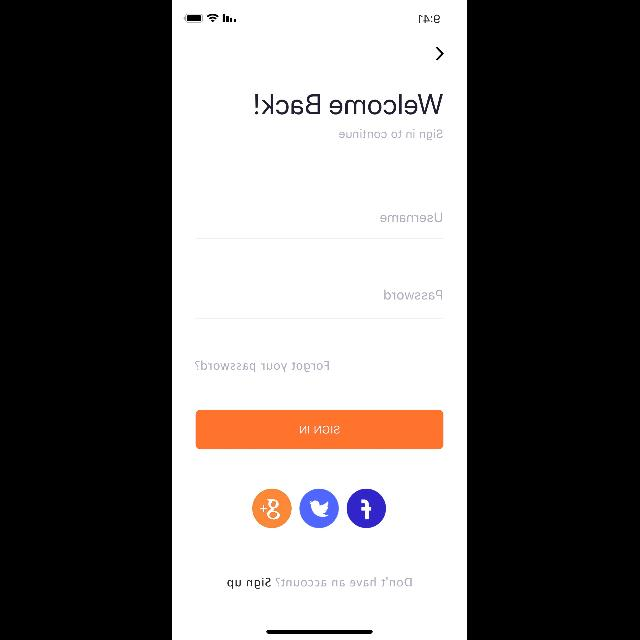icon: (300, 488, 340, 528), (348, 488, 387, 528), (254, 488, 292, 528), (438, 47, 444, 61)
input: (196, 289, 444, 319), (196, 212, 444, 240)
text: (255, 95, 443, 115), (228, 577, 412, 589), (196, 360, 330, 372), (340, 129, 444, 141), (381, 212, 443, 222), (385, 290, 443, 300)
textbutton: (196, 410, 444, 450)
uppertaskbar: (184, 14, 440, 24)
